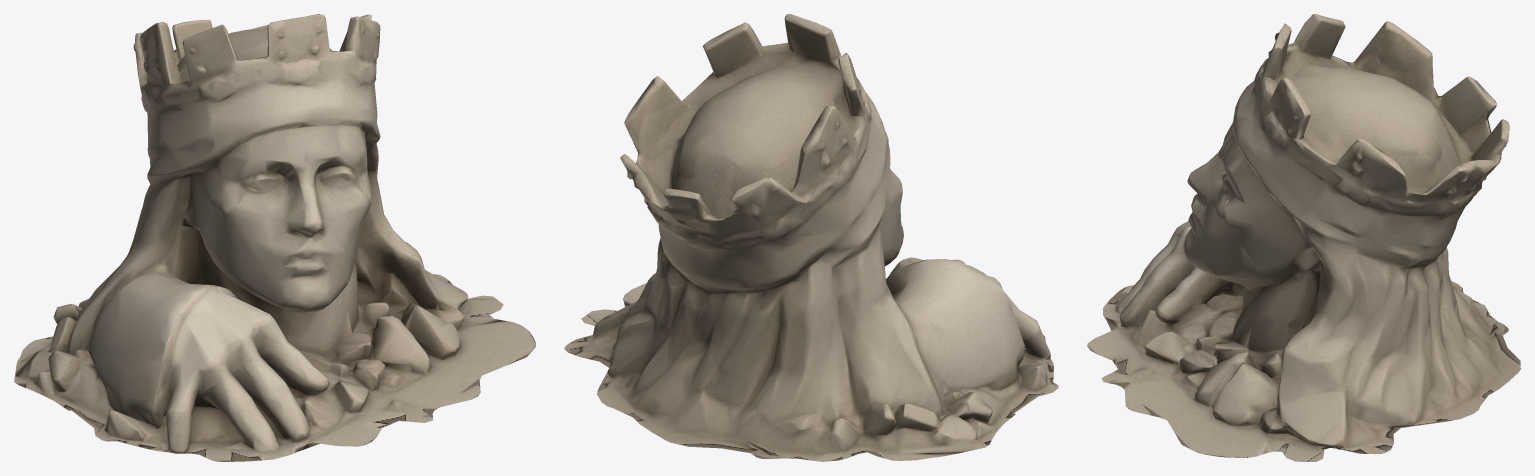
Rendered from prp_lm_colossus_head.glb.
3 views of the same model, side by side, from view 1: azimuth 30°, elevation 25°; view 2: azimuth 150°, elevation 25°; view 3: azimuth 270°, elevation 25° (orthographic). The views are drawn at different scales.
Parts seen in each view (by area): view 1: prp_lm_colossus_head; view 2: prp_lm_colossus_head; view 3: prp_lm_colossus_head.
Part boxes in pixels (x1,y1,x2,y2): prp_lm_colossus_head: (14, 14, 535, 461); prp_lm_colossus_head: (564, 14, 1058, 461); prp_lm_colossus_head: (1087, 14, 1520, 461).
Size of the model in its own units: 18.97 by 14 by 16.75.
Materials: 1 (1 with a texture image).
